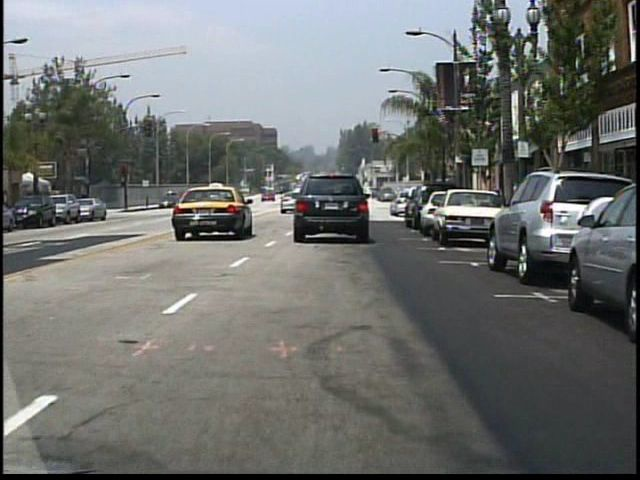person: (194, 188, 209, 213), (346, 188, 361, 213)
